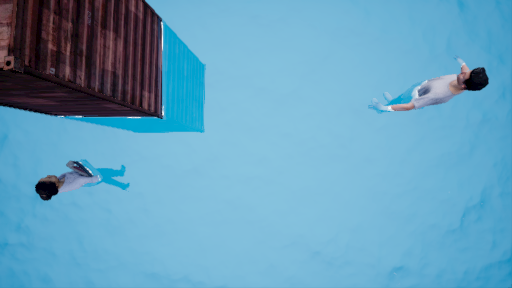person: (389, 59, 480, 121), (39, 157, 147, 204)
